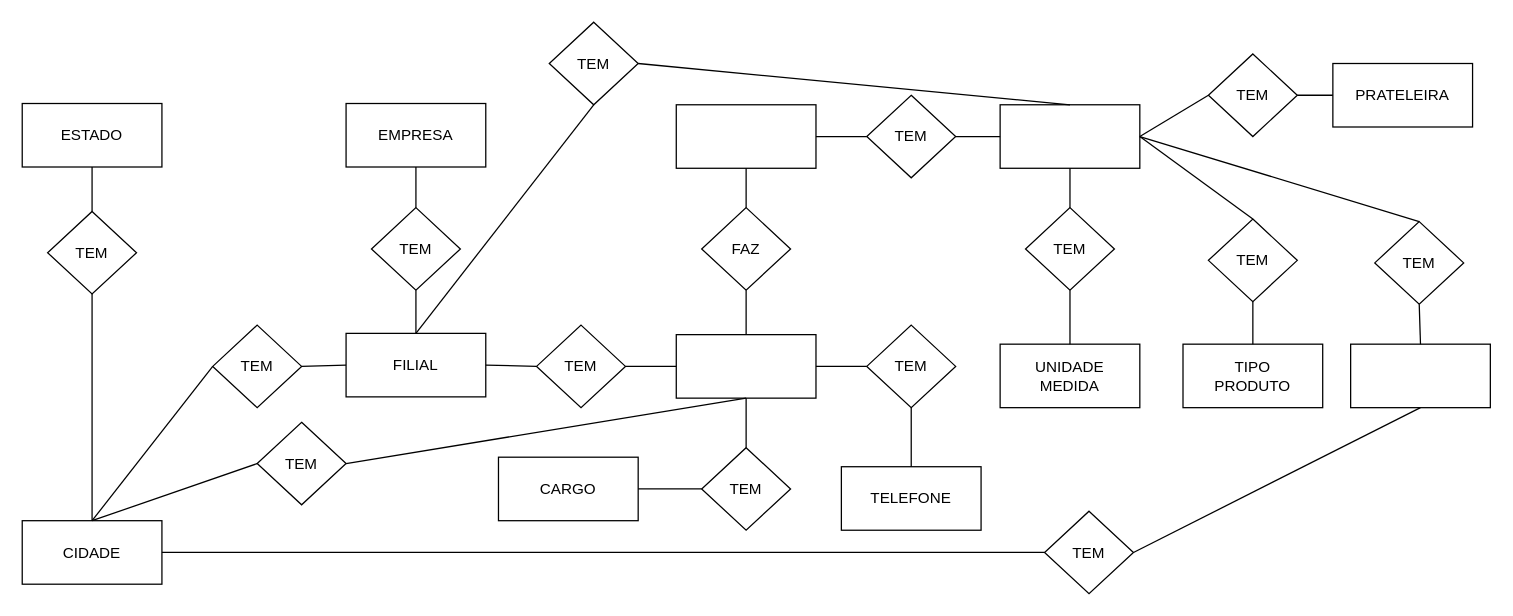
Image size: 1513x616. Some labels were removed from this diagram. The centre of each missing label's shape, as x and y in pixels:
FORNECEDOR: (1419,375)
FUNCIONARIO: (745,365)
PRODUTO: (1069,136)
VENDA: (745,136)
